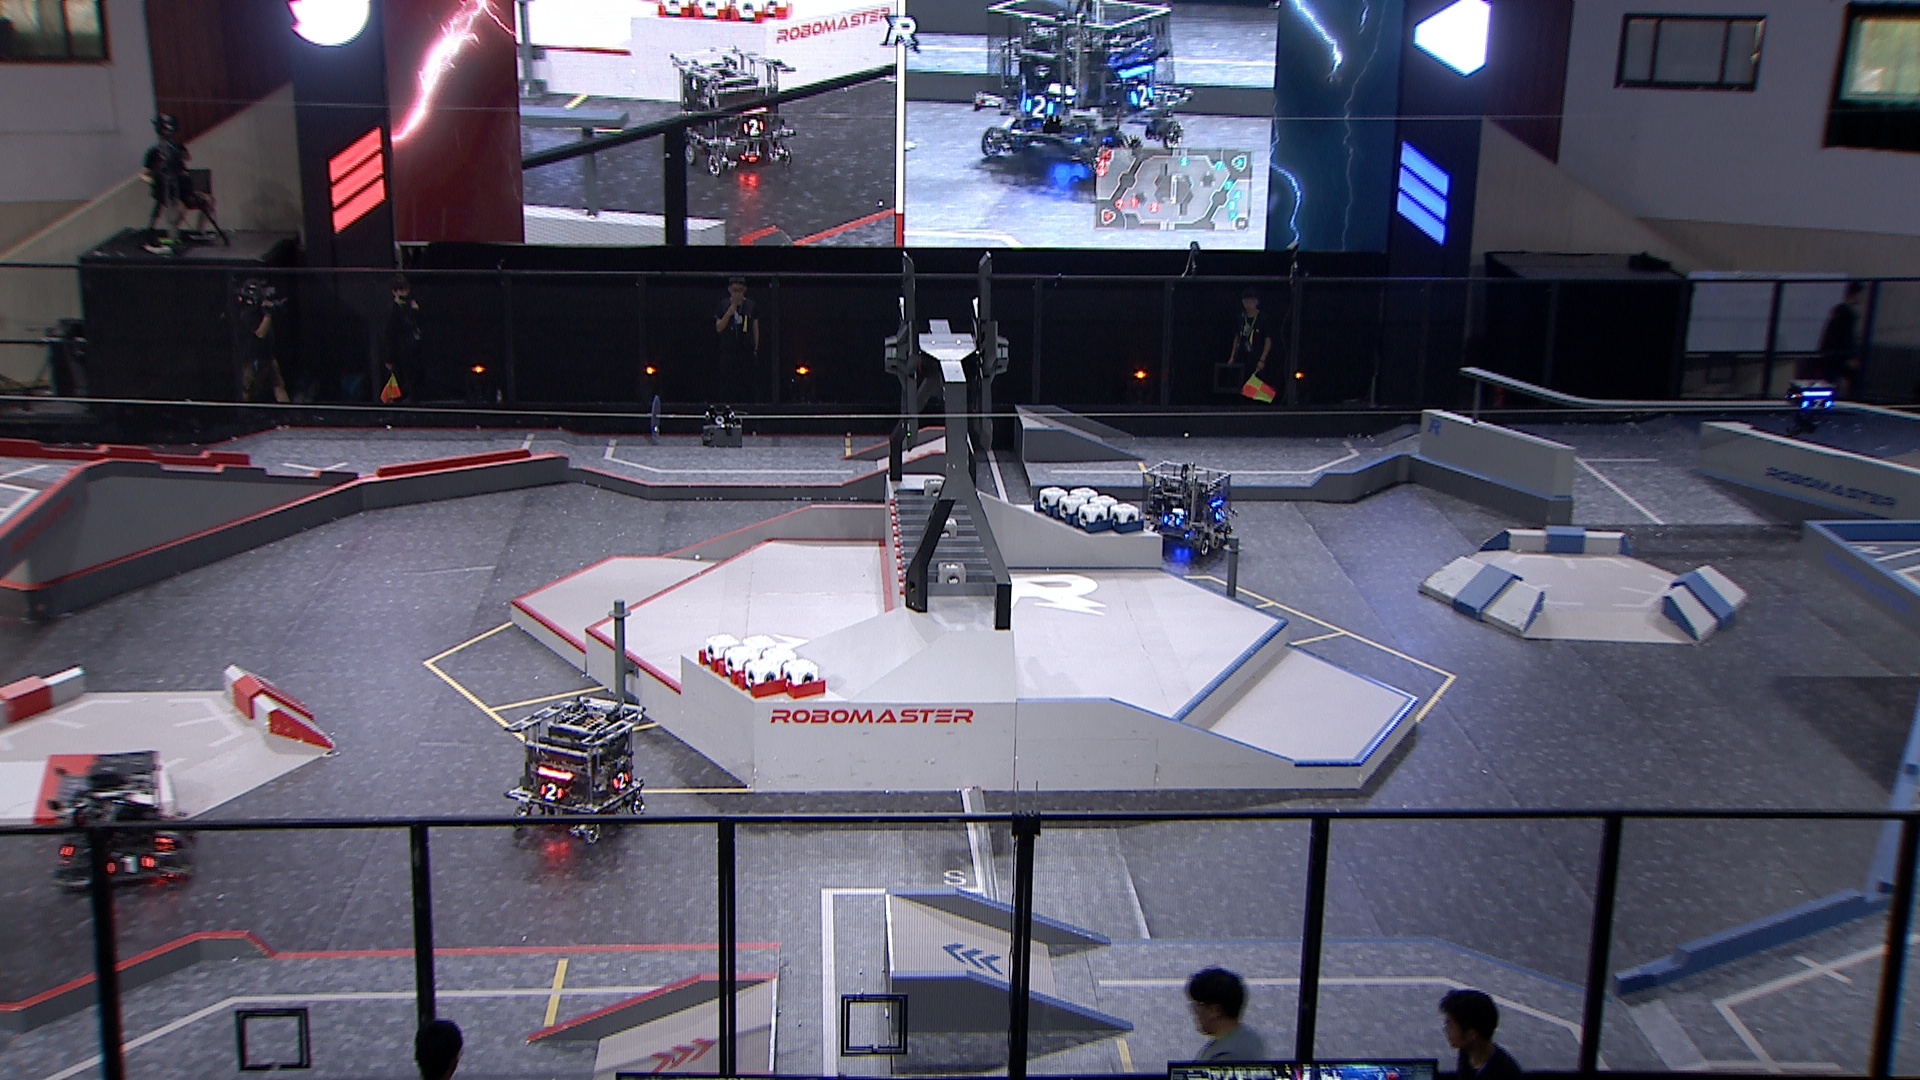armor: (102, 855, 153, 878), (149, 818, 175, 847), (537, 781, 564, 802), (609, 769, 633, 793), (1803, 396, 1836, 411), (1162, 512, 1182, 529), (1212, 506, 1226, 524)
car: (498, 694, 646, 847), (47, 742, 190, 891), (1133, 456, 1238, 562)
ignore: (971, 0, 1185, 178), (669, 44, 799, 174)
watcher: (1784, 375, 1840, 442)
